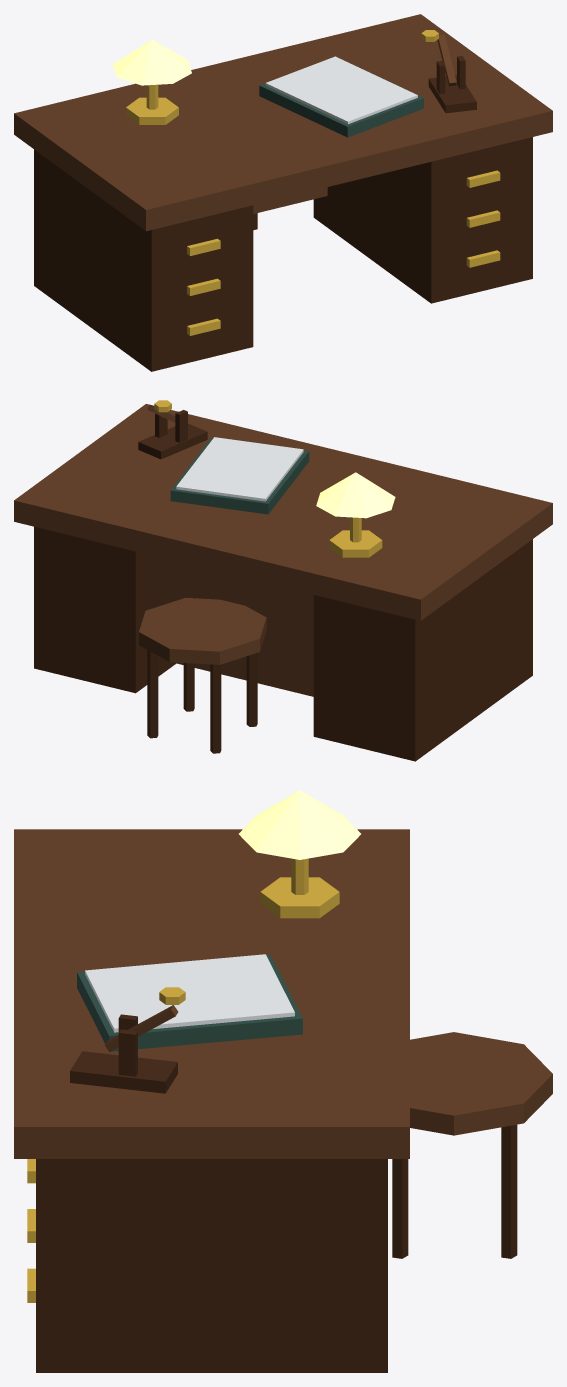
The model's file is booking_desk.glb.
The picture shows the model from 3 angles, top to bottom: view 1: azimuth 30°, elevation 25°; view 2: azimuth 150°, elevation 25°; view 3: azimuth 270°, elevation 25°; orthographic projection. The views are drawn at different scales.
Visible parts, largest first — view 1: Flocon_Booking_Desk; view 2: Flocon_Booking_Desk; view 3: Flocon_Booking_Desk.
Boxes of the visible parts, x1,y1,x2,y2 form: Flocon_Booking_Desk: [14, 14, 552, 371]; Flocon_Booking_Desk: [14, 400, 552, 761]; Flocon_Booking_Desk: [14, 790, 552, 1372].
Size of the model in its own units: 3.2 by 1.85 by 2.45.
